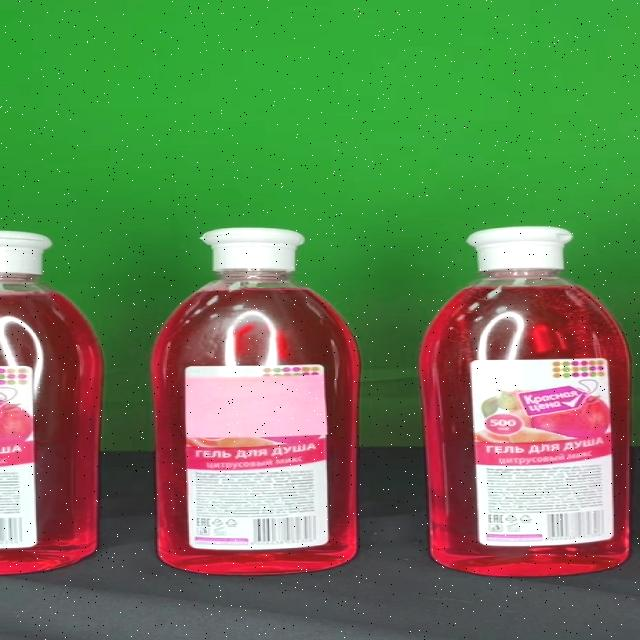Bottle: (418, 227, 629, 576), (152, 228, 358, 575)
Cap: (465, 227, 571, 272), (201, 228, 306, 271)
